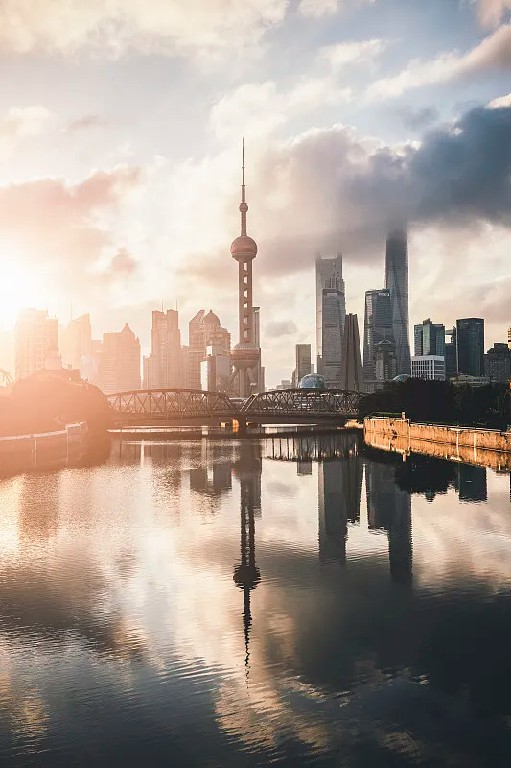Oriental: (225, 138, 262, 393)
